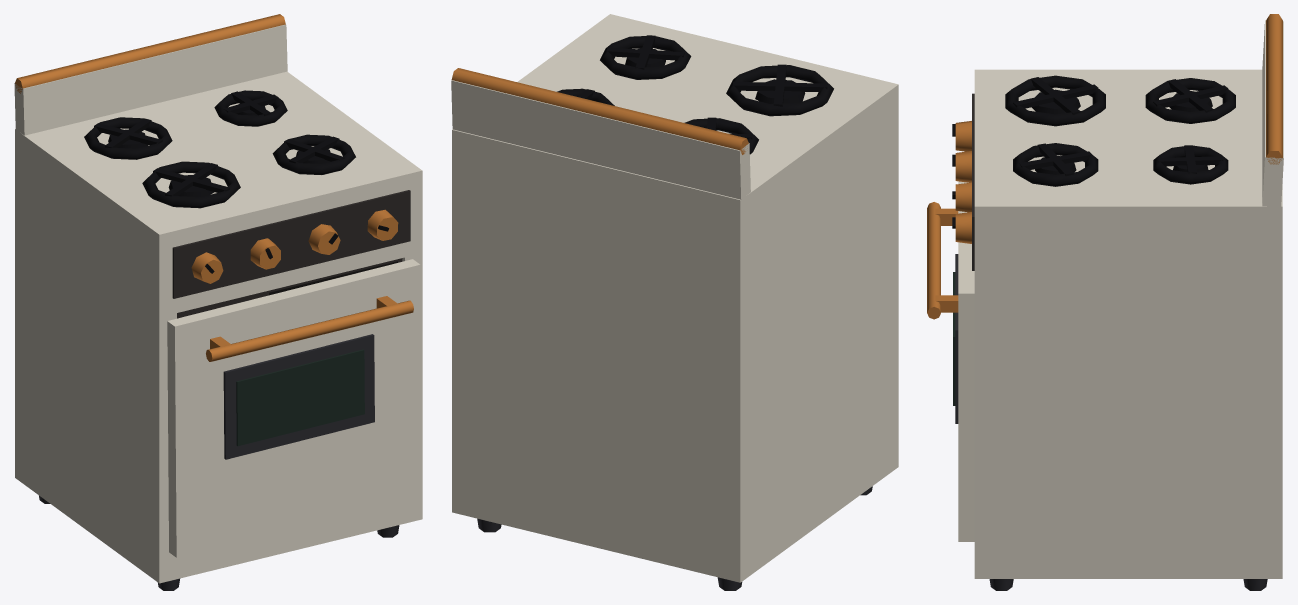
Rendered from Fornuis.glb.
3 renders of one model, left to right at view 1: azimuth 30°, elevation 25°; view 2: azimuth 150°, elevation 25°; view 3: azimuth 270°, elevation 25°, orthographic. The views are drawn at different scales.
Visible parts, largest first — view 1: Body, OvenDoor, DarkTrim, HobAndPointers, OvenWindow, CopperParts, OvenWindowFrame, OvenHandle; view 2: Body, HobAndPointers, CopperParts; view 3: Body, HobAndPointers, OvenDoor, CopperParts, OvenHandle, OvenWindowFrame, DarkTrim, Feet.
Boxes of the visible parts, box(x1,y1,x2,y2) form: Body: box(14, 24, 422, 583); OvenDoor: box(167, 259, 422, 557); DarkTrim: box(172, 190, 410, 318); HobAndPointers: box(84, 90, 388, 273); OvenWindow: box(236, 349, 364, 446); CopperParts: box(15, 14, 398, 283); OvenWindowFrame: box(223, 334, 374, 459); OvenHandle: box(206, 296, 413, 361); Body: box(451, 14, 898, 582); HobAndPointers: box(557, 35, 833, 154); CopperParts: box(451, 68, 748, 154); Body: box(974, 20, 1283, 578); HobAndPointers: box(952, 75, 1235, 228); OvenDoor: box(958, 181, 974, 541); CopperParts: box(955, 14, 1282, 243); OvenHandle: box(927, 202, 958, 319); OvenWindowFrame: box(955, 254, 958, 423); DarkTrim: box(972, 93, 974, 270); Feet: box(989, 579, 1267, 590).
Bounding box in the file's own units: 0.6 × 0.9139 × 0.6605.
